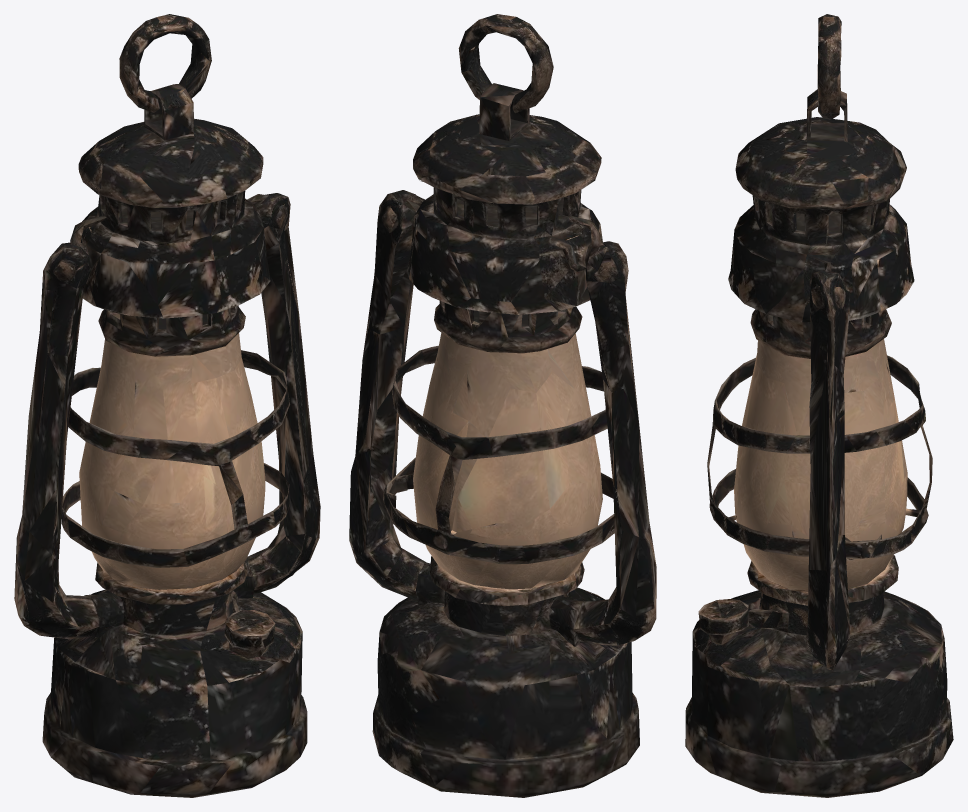
File: porch_lantern.glb
3 views of the same model, side by side, from view 1: azimuth 30°, elevation 25°; view 2: azimuth 150°, elevation 25°; view 3: azimuth 270°, elevation 25° (orthographic).
Parts seen in each view (by area): view 1: porch_lantern; view 2: porch_lantern; view 3: porch_lantern.
Part boxes in pixels (x1,y1,x2,y2): porch_lantern: [14, 14, 320, 797]; porch_lantern: [349, 14, 656, 797]; porch_lantern: [685, 14, 953, 797].
Bounding box in the file's own units: 0.184 × 0.42 × 0.1412.
Materials: 1 (1 with a texture image).
